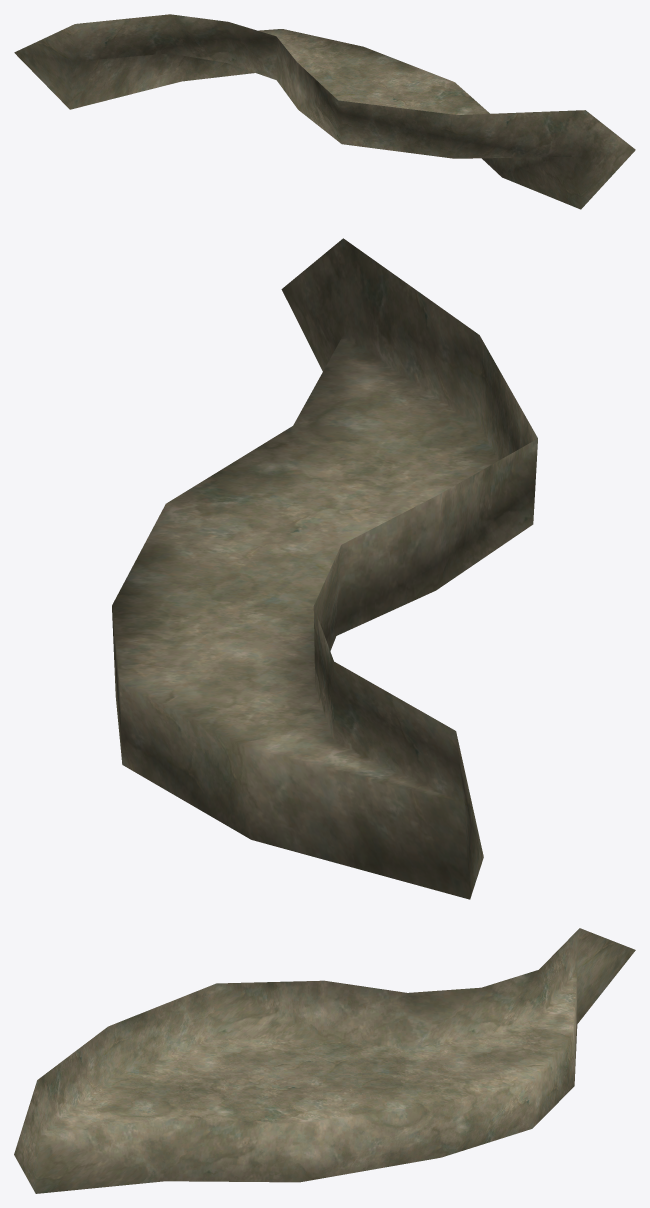
Rendered from EKH_THRONE_PS_TH_BACK_PLATFORM.fbx.
3 renders of one model, top to bottom at view 1: azimuth 30°, elevation 25°; view 2: azimuth 150°, elevation 25°; view 3: azimuth 270°, elevation 25°, orthographic. The views are drawn at different scales.
Parts seen in each view (by area): view 1: EKH_THRONE_PS_TH_BACK_PLATFORM; view 2: EKH_THRONE_PS_TH_BACK_PLATFORM; view 3: EKH_THRONE_PS_TH_BACK_PLATFORM.
Part boxes in pixels (<box>): EKH_THRONE_PS_TH_BACK_PLATFORM: <box>14,14,635,209</box>; EKH_THRONE_PS_TH_BACK_PLATFORM: <box>112,238,537,899</box>; EKH_THRONE_PS_TH_BACK_PLATFORM: <box>14,928,635,1193</box>.
Size of the model in its own units: 39851 by 10577 by 49713.
1 material, 1 textured.
